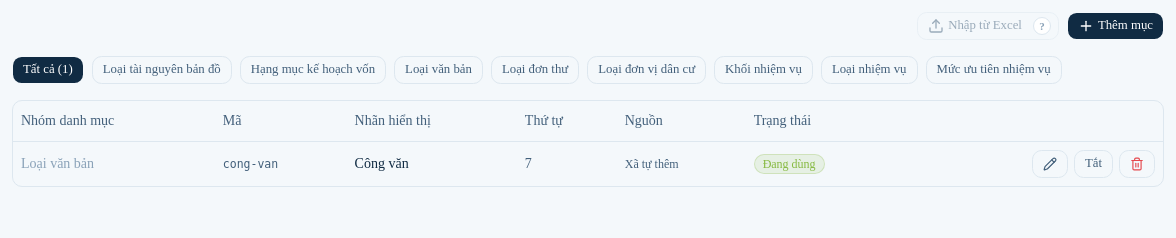
Scenario: Tắt / Bật an entry (ADR 0079 lô 6 #3, prototype LookupTable.tsx:188-194) › refusal: the server's sentence shows, no success toast
Click the button "Tắt": click(1093, 164) [1074, 150, 1113, 178]
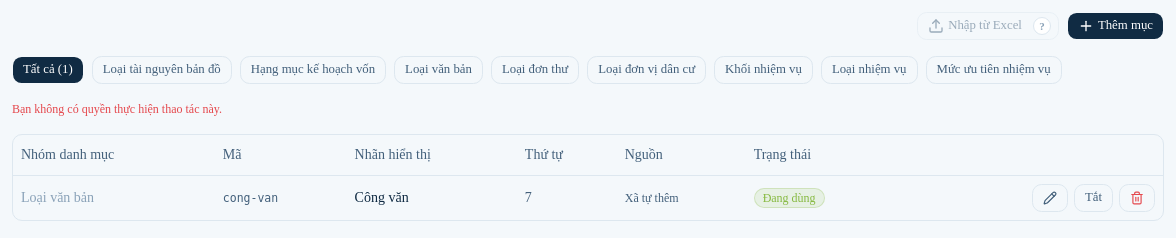
Expected: the text "Bạn không có quyền thực hiện thao tác này." is shown, [12, 102, 222, 116]
